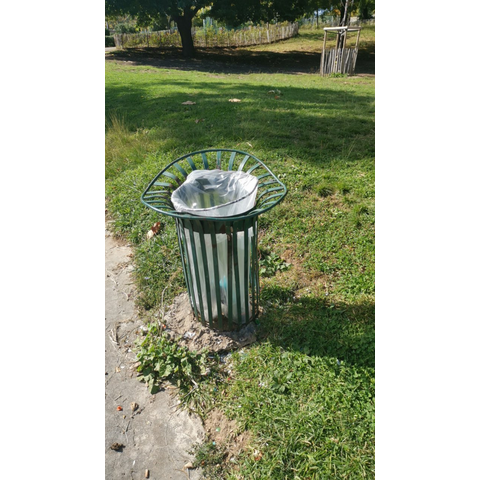poubelle: (142, 139, 289, 342)
